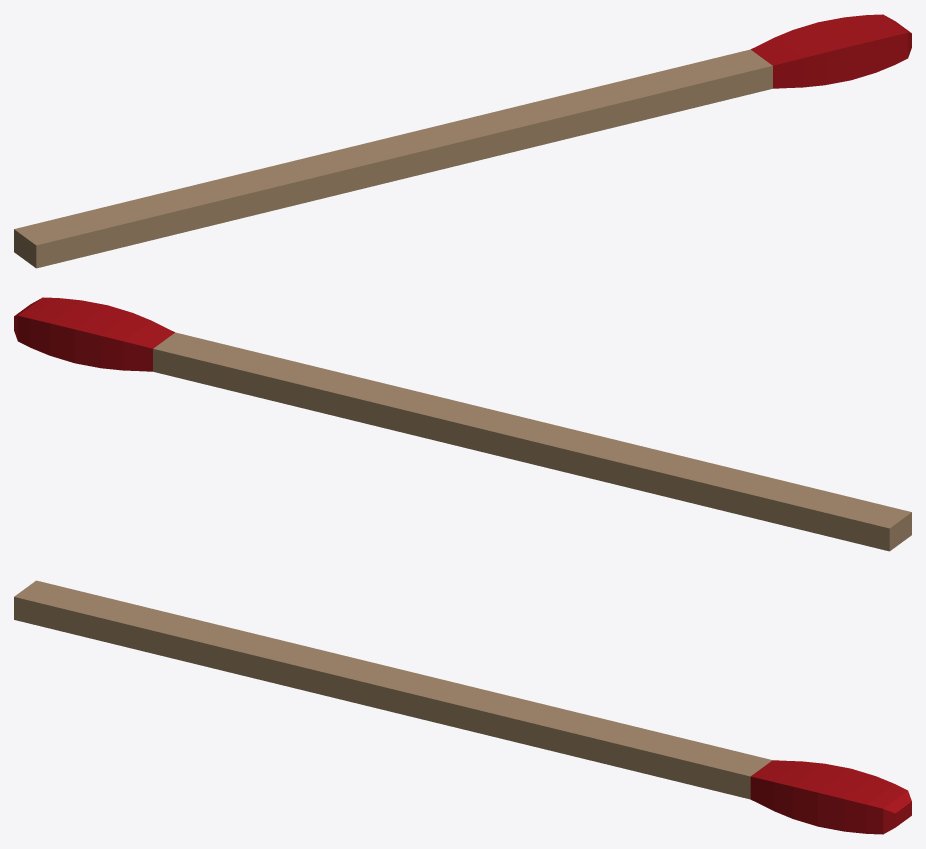
Rendered from matche.fbx.
The picture shows the model from 3 angles, top to bottom: view 1: azimuth 30°, elevation 25°; view 2: azimuth 150°, elevation 25°; view 3: azimuth 330°, elevation 25°; orthographic projection.
Parts seen in each view (by area): view 1: Cube.008; view 2: Cube.008; view 3: Cube.008.
Boxes of the visible parts, x1,y1,x2,y2 form: Cube.008: (14, 14, 911, 268); Cube.008: (14, 297, 911, 551); Cube.008: (14, 580, 911, 834).
Bounding box in the file's own units: 367 × 13.57 × 23.84.
